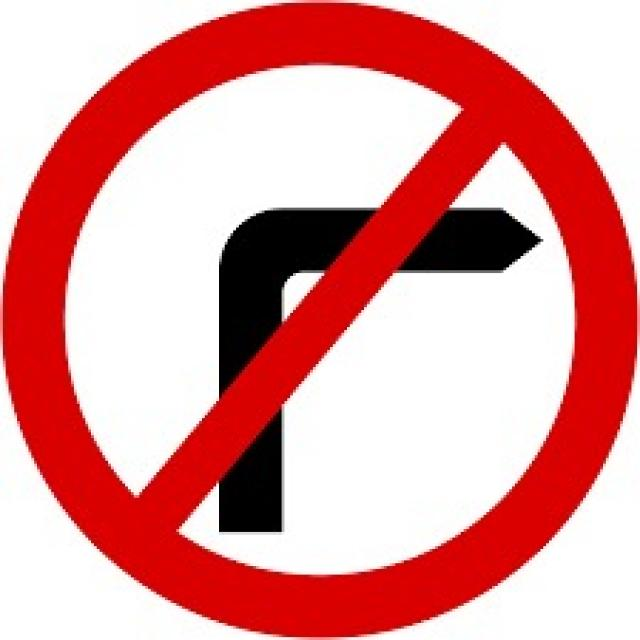do_not_turn_right: (0, 2, 640, 640)
